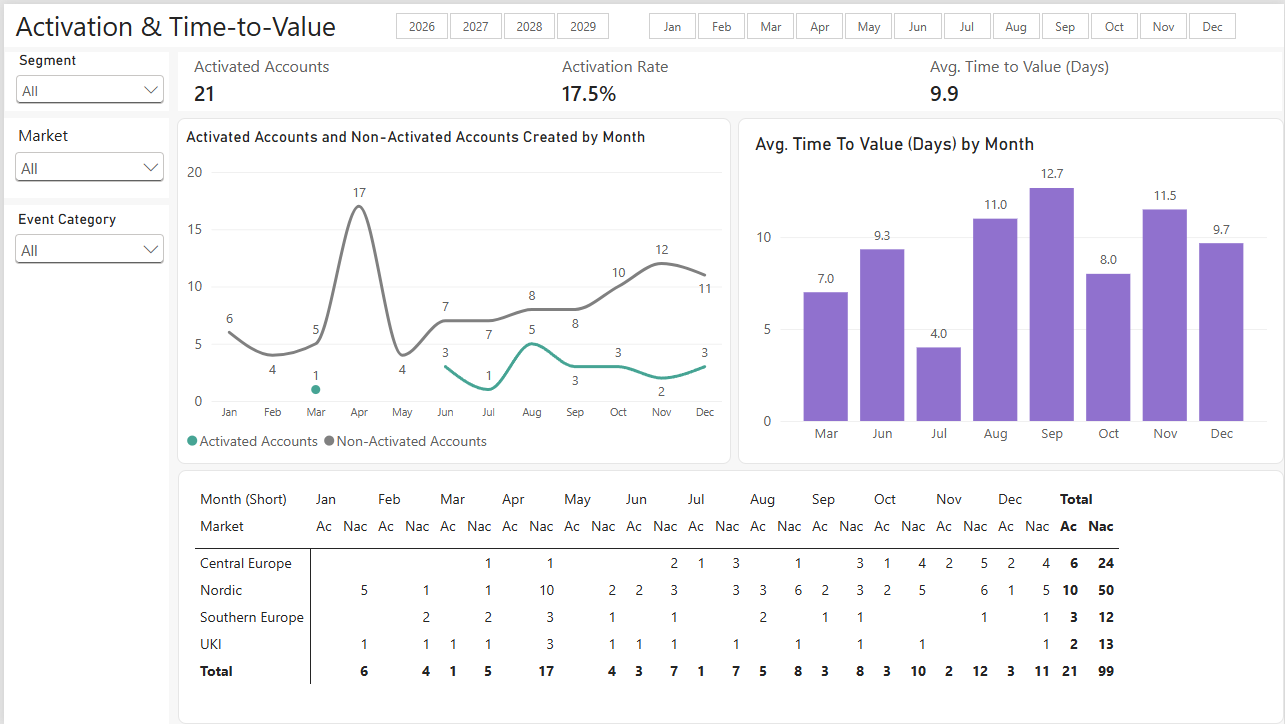

Layout of this report page (visuals, bound fields, positions):
{"tool":"powerbi","page":{"name":"Activation & Time-to-Value","canvas":[1280,720],"ordinal":2},"visuals":[{"type":"textbox","box":[0,0,1280.4,43.5],"z":0},{"type":"slicer","fields":{"Values":["dim_date.Year"]},"box":[371,7,253,30],"z":1000},{"type":"slicer","fields":{"Values":["dim_date.Month (Short)"]},"box":[624,7,627.2,30.4],"z":2000},{"type":"slicer","fields":{"Values":["gold_dim_accounts.Segment"]},"box":[1,48.5,163.9,58.8],"z":3000},{"type":"slicer","fields":{"Values":["gold_dim_accounts.Market"]},"box":[0,114.4,164.6,79.7],"z":4000},{"type":"cardVisual","fields":{"Data":["_Measures.Activated Accounts","_Measures.Activation Rate","_Measures.Avg. Time to Value (Days)"]},"box":[174.2,48.5,1106.2,58.8],"z":5000},{"type":"lineChart","title":"Activated Accounts and Non-Activated Accounts Created by Month","fields":{"Category":["dim_date.Month (Short)"],"Y":["_Measures.Activated Accounts","_Measures.Non-Activated Accounts"]},"box":[173.5,114.5,553,345.8],"z":6000},{"type":"slicer","fields":{"Values":["gold_dim_accounts.AccountName"]},"box":[0,201,165,519],"z":7000},{"type":"columnChart","title":"Avg. Time To Value (Days) by Month","fields":{"Category":["dim_date.Month (Short)"],"Y":["_Measures.Avg. Time to Value (Days)"]},"box":[733.7,114.5,545.8,345.8],"z":8000},{"type":"pivotTable","fields":{"Columns":["dim_date.Month (Short)"],"Rows":["gold_dim_accounts.Market"],"Values":["_Measures.Activated Accounts","_Measures.Non-Activated Accounts"]},"box":[173.9,465.6,1106,254.6],"z":9000}]}

Visuals, with their boxes in screenshot pixels (x1, y1, x2, y2), scaled from the page's 1280x720 canvas onto the 1285x724 screenshot:
textbox: [0, 0, 1284, 44]
slicer - dim_date.Year: [372, 7, 626, 37]
slicer - dim_date.Month (Short): [626, 7, 1256, 38]
slicer - gold_dim_accounts.Segment: [1, 49, 166, 108]
slicer - gold_dim_accounts.Market: [0, 115, 165, 195]
cardVisual - _Measures.Activated Accounts x _Measures.Activation Rate: [175, 49, 1284, 108]
"Activated Accounts and Non-Activated Accounts Created by Month" lineChart: [174, 115, 729, 463]
slicer - gold_dim_accounts.AccountName: [0, 202, 166, 723]
"Avg. Time To Value (Days) by Month" columnChart: [737, 115, 1284, 463]
pivotTable - dim_date.Month (Short) x gold_dim_accounts.Market: [175, 468, 1284, 723]
